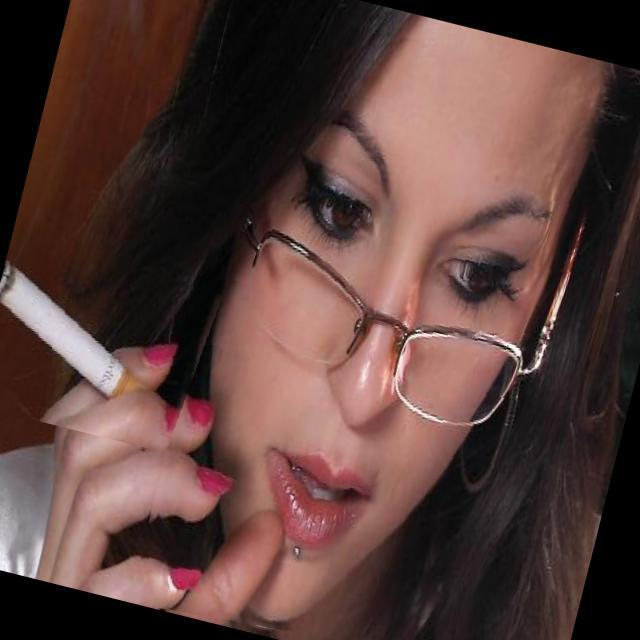cigarette: (0, 229, 225, 457)
